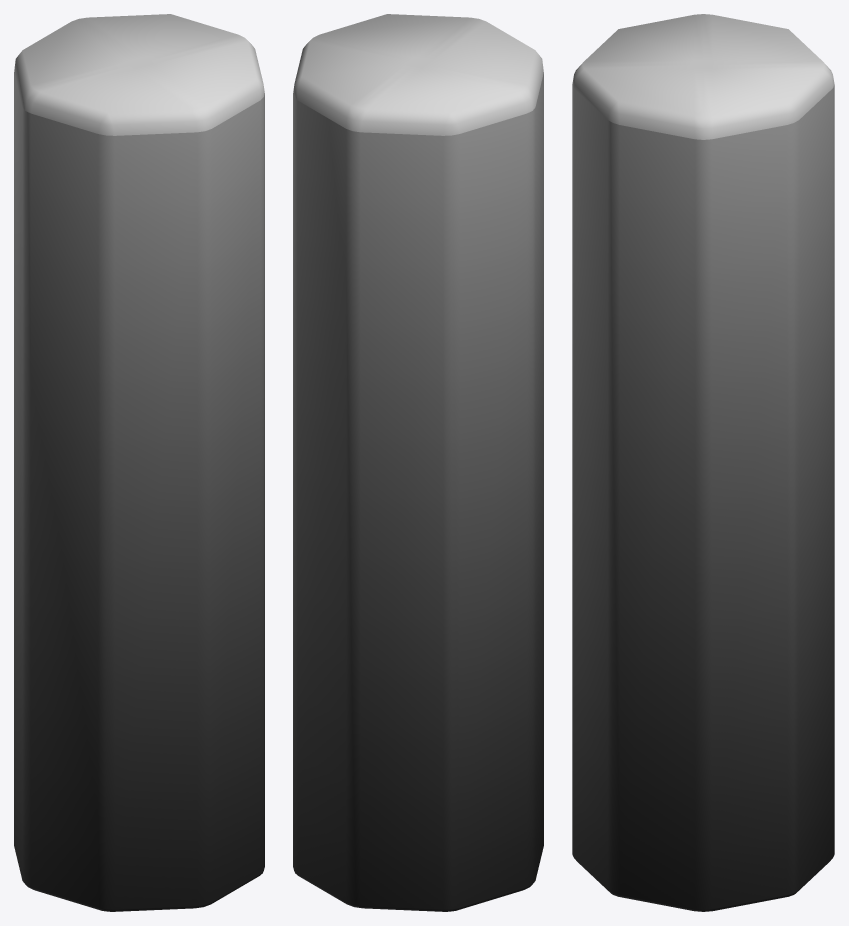
File: dr_haxagon.fbx
3 views of the same model, side by side, from view 1: azimuth 30°, elevation 25°; view 2: azimuth 150°, elevation 25°; view 3: azimuth 270°, elevation 25° (orthographic).
Visible parts, largest first — view 1: dr_haxagon; view 2: dr_haxagon; view 3: dr_haxagon.
Boxes of the visible parts, box(x1,y1,x2,y2) form: dr_haxagon: box(14, 14, 264, 911); dr_haxagon: box(293, 14, 543, 911); dr_haxagon: box(572, 14, 834, 911).
Bounding box in the file's own units: 2.85 × 9.52 × 2.85.
